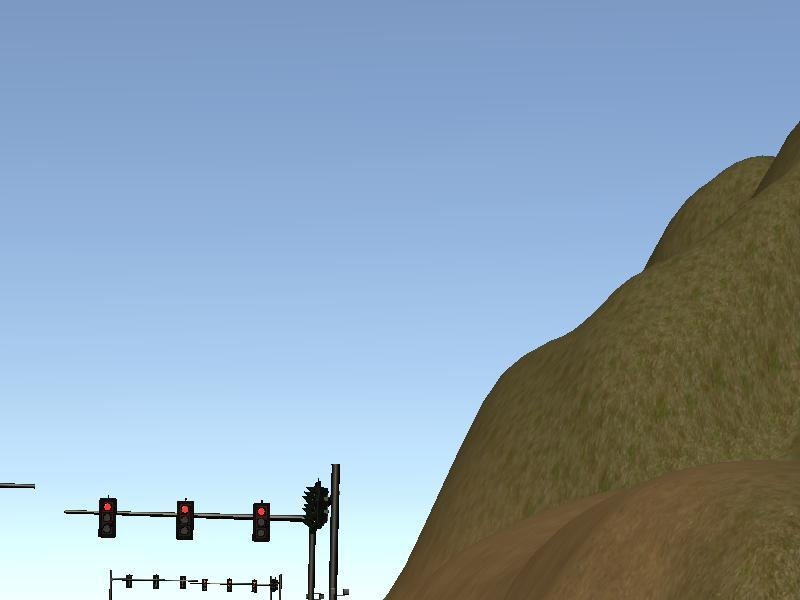Red: (252, 502, 269, 543), (176, 500, 193, 541), (98, 497, 115, 538)
